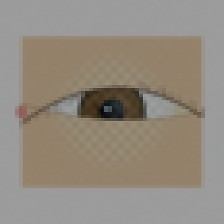pinguecula_lesion: (160, 91, 209, 130)
